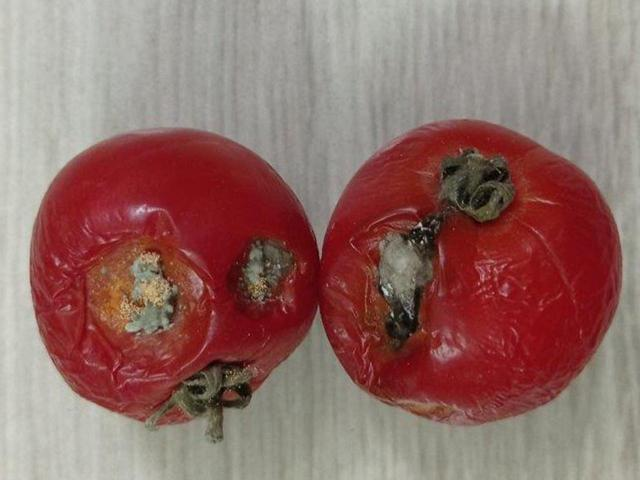defect: (319, 107, 626, 433), (26, 122, 322, 428)
